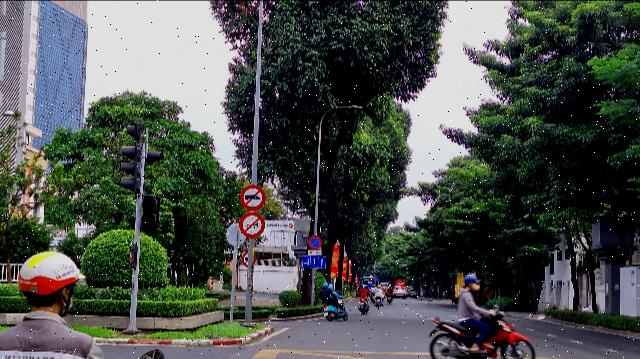cam-bop-coi: (239, 212, 265, 239)
cam-do-xe: (308, 235, 322, 250)
